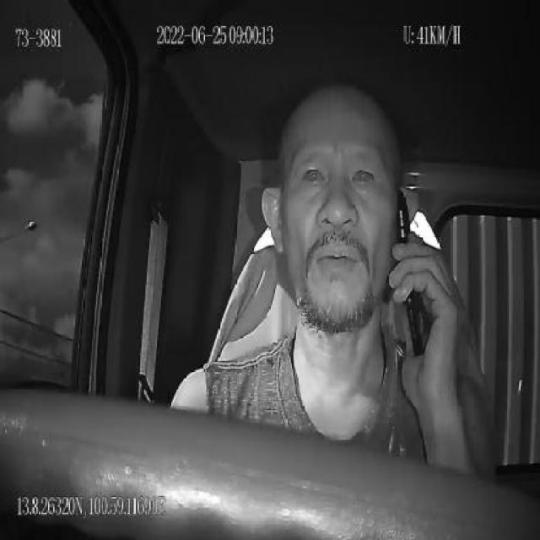phone: (396, 189, 424, 353)
